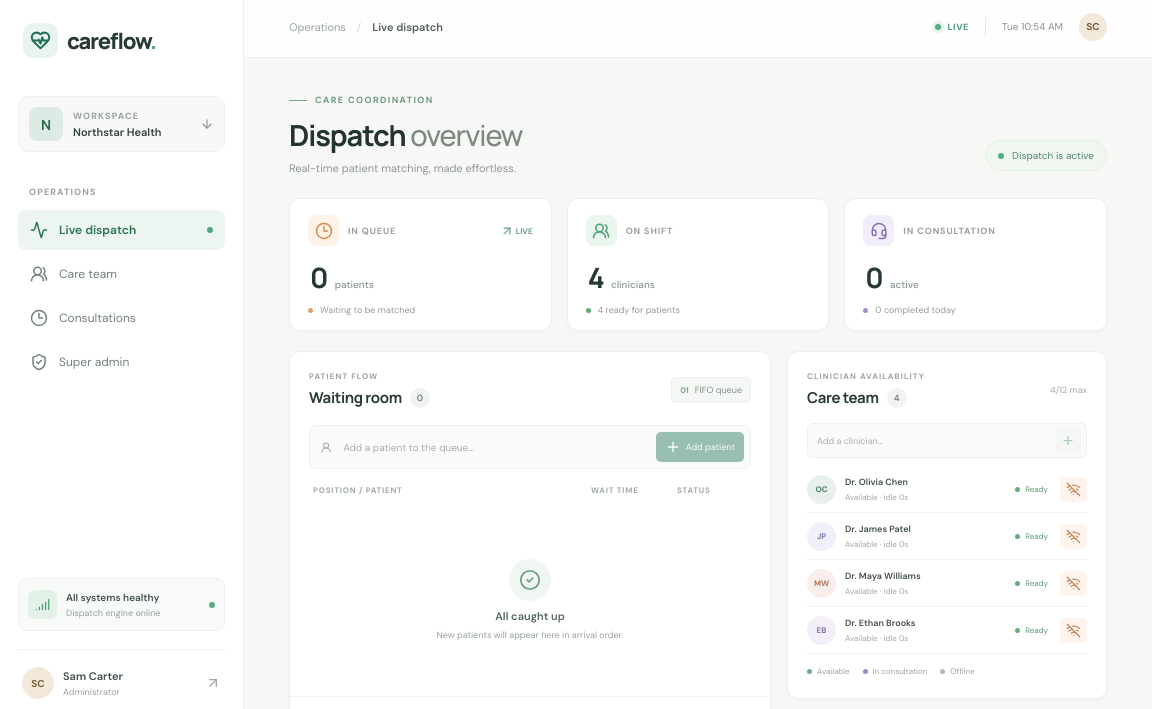
it: dispatch dashboard › queues a patient, matches them, and completes their consultation
Type "Alex Morgan" into the field named "Patient name" at (494, 447), box [341,440,647,454]
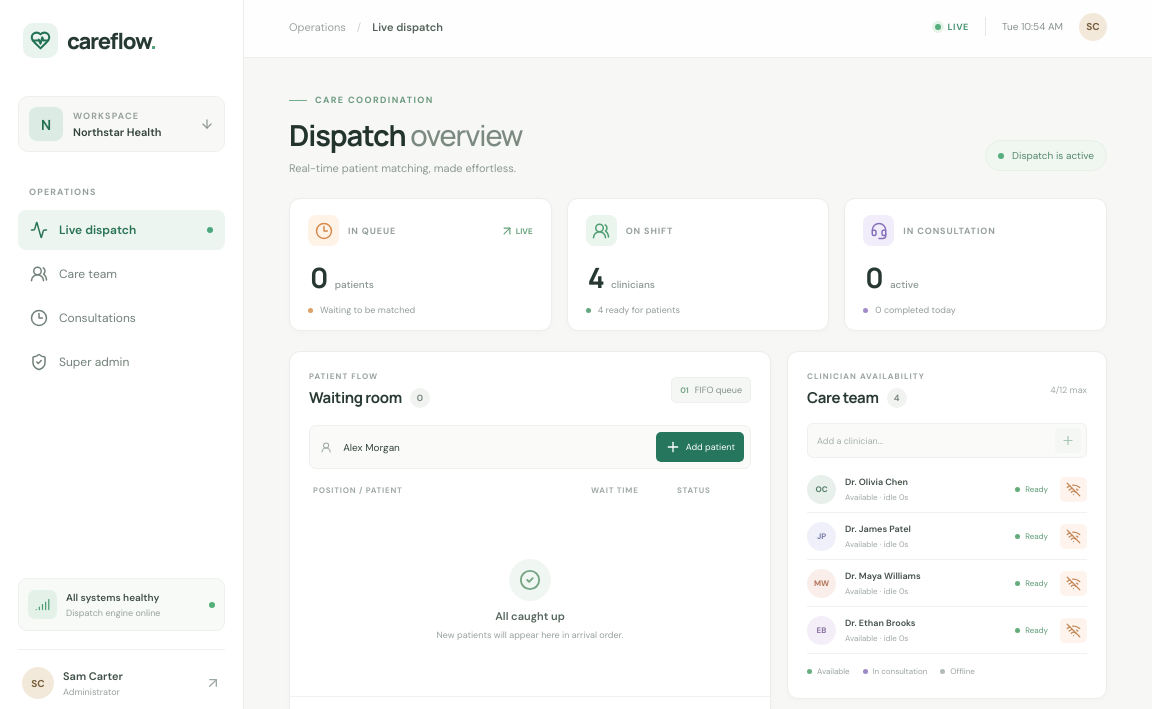
Click the button "Add patient" at (700, 447), box [656,432,744,462]
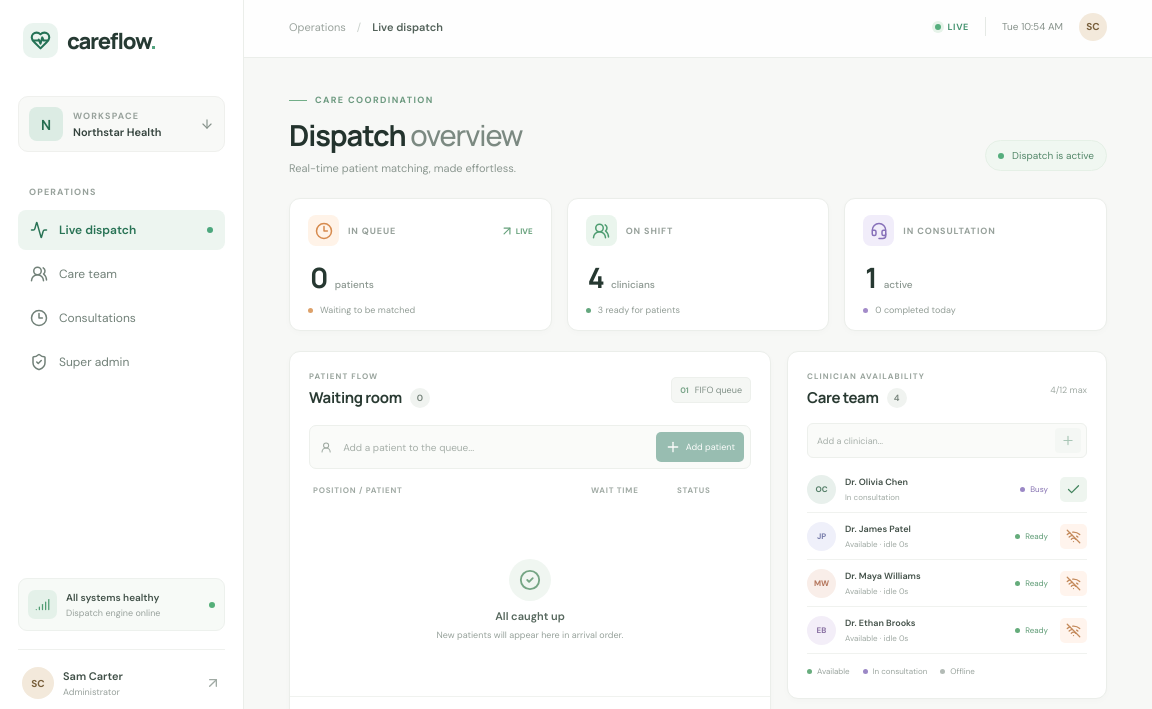
Check: the text "In consultation" is shown, box [845,492,900,502]
Click the button named "Complete consultation for Dr. Olivia Chen" at (1074, 489), box [1060,476,1087,502]
(page scrolled)
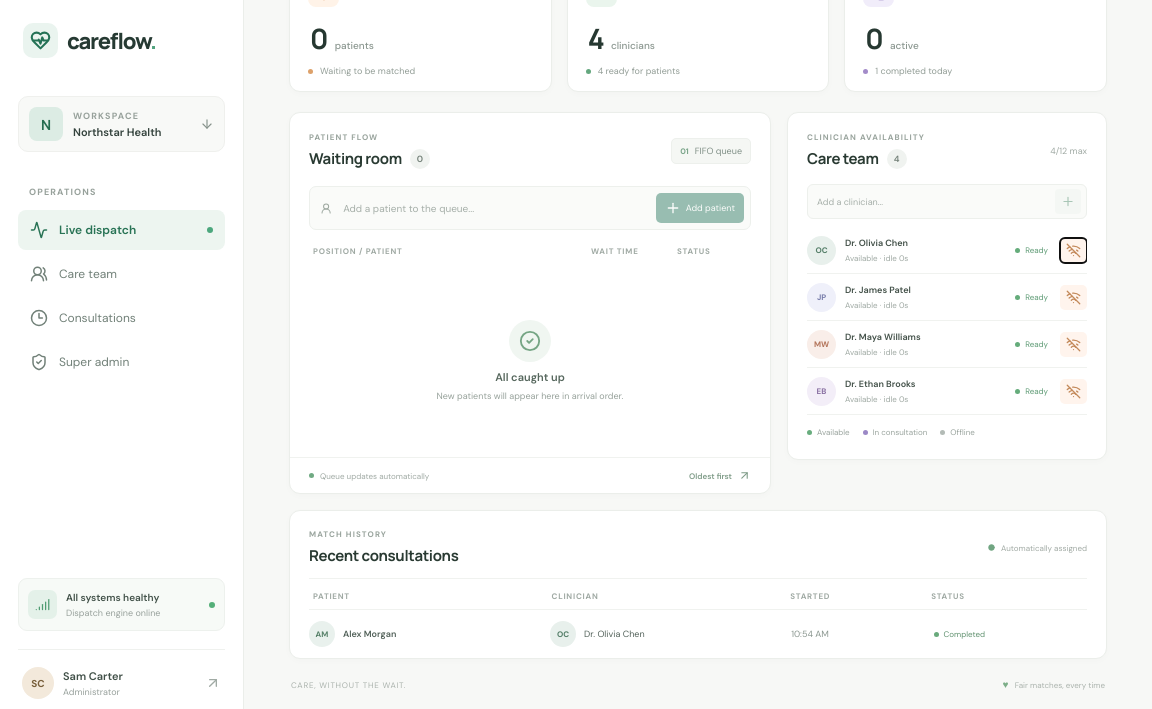
Check: the text "Ready" is shown 4 times, box [1015,245,1048,255]; [1015,292,1048,302]; [1015,339,1048,349]; [1015,386,1048,396]
Check: the text "Completed" is shown, box [934,629,985,639]
